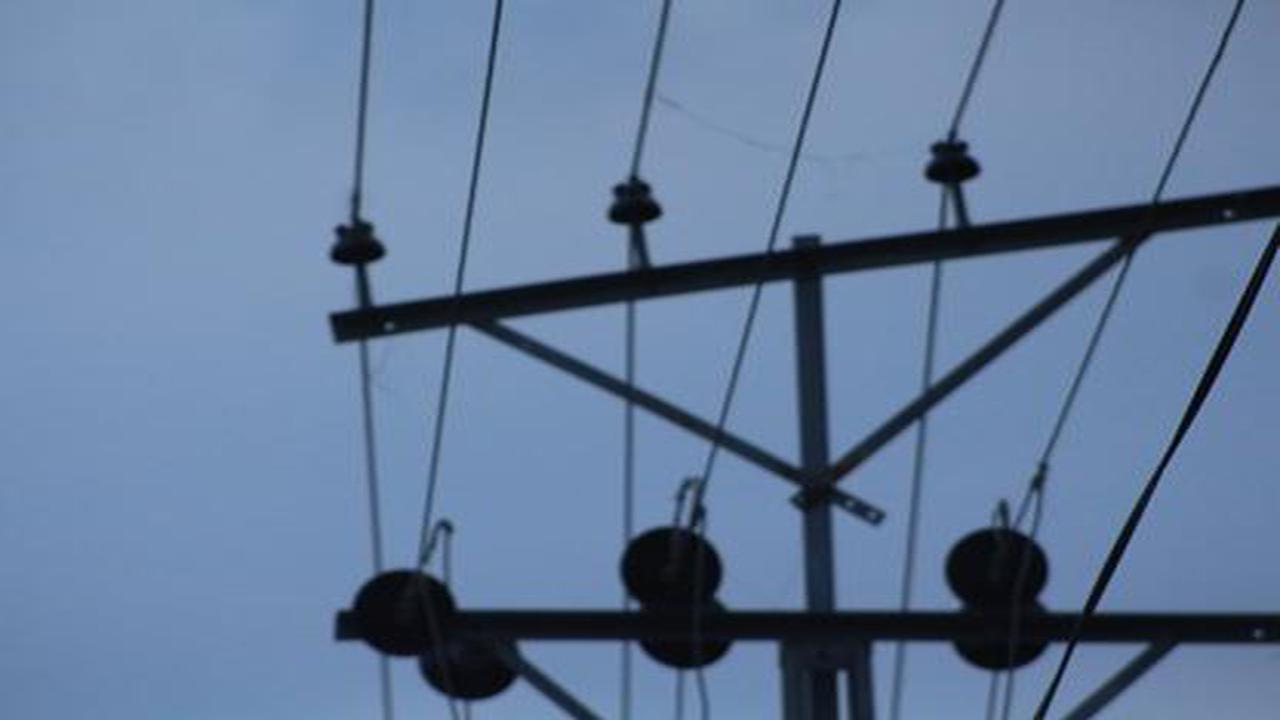insulator_disc: (348, 565, 464, 661), (615, 524, 730, 614), (943, 523, 1049, 610)
insulator_pin: (598, 176, 668, 231), (914, 137, 989, 188), (328, 217, 389, 269)
